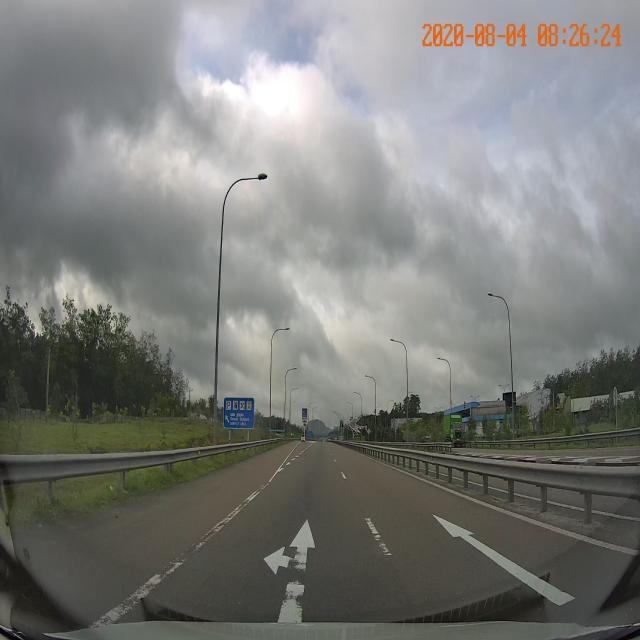forward_lft: (126, 494, 426, 606)
